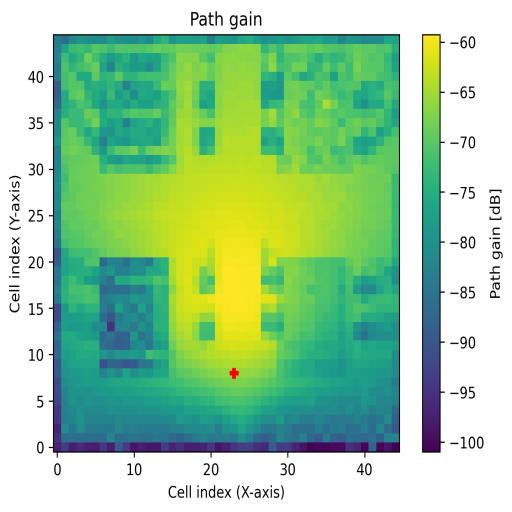Concrete: (284, 52, 355, 174)
Glass: (100, 52, 176, 175)
Metal: (276, 258, 346, 378)
Wood: (100, 259, 168, 380)
